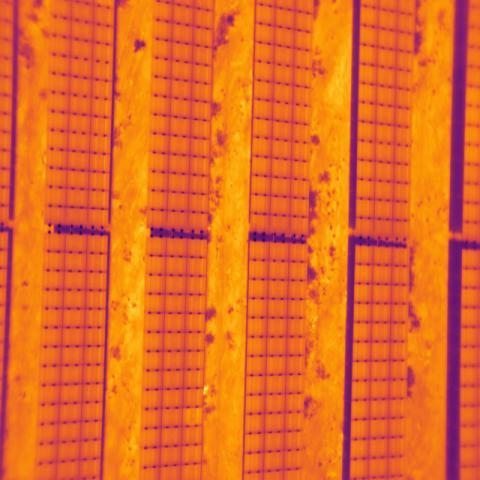fault: (181, 404, 203, 428)
